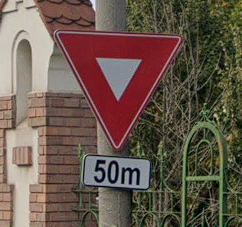cedeaza: (50, 28, 184, 151)
